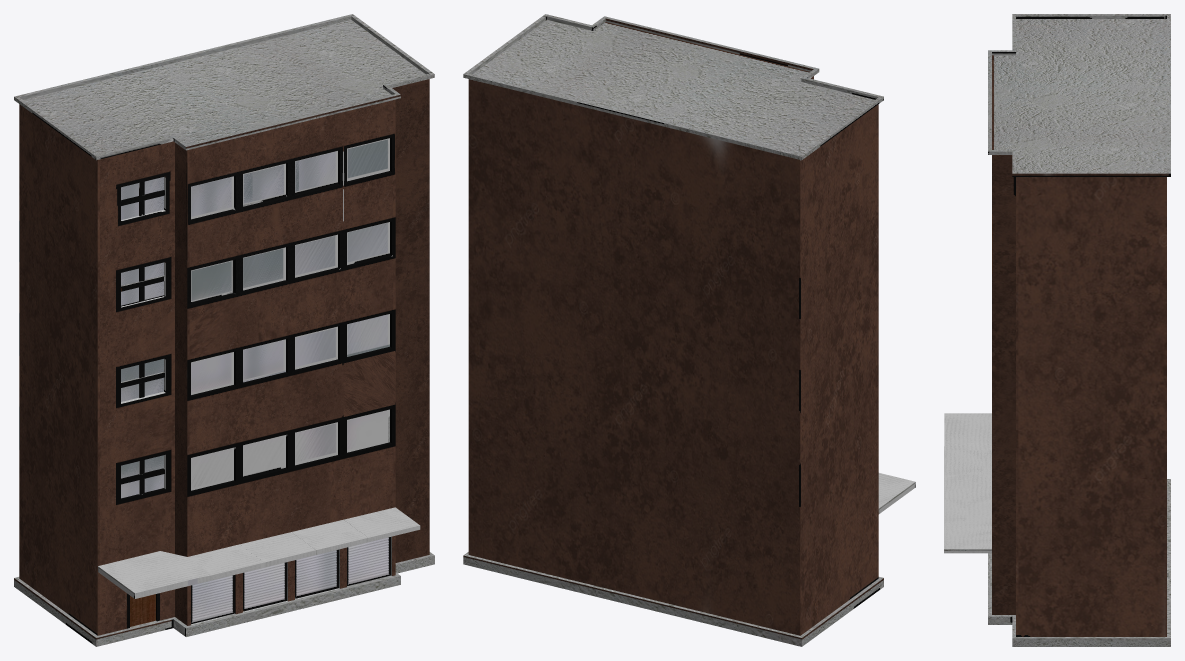
File: Edfificio_Generico02.fbx
The picture shows the model from 3 angles, left to right: view 1: azimuth 30°, elevation 25°; view 2: azimuth 150°, elevation 25°; view 3: azimuth 270°, elevation 25°; orthographic projection. The views are drawn at different scales.
Visible parts, largest first — view 1: building_006; view 2: building_006; view 3: building_006.
Boxes of the visible parts, x1=… form: building_006: x1=14, y1=14, x2=434, y2=646; building_006: x1=463, y1=14, x2=915, y2=646; building_006: x1=944, y1=14, x2=1170, y2=646.
Size of the model in its own units: 999 by 1382 by 600.
